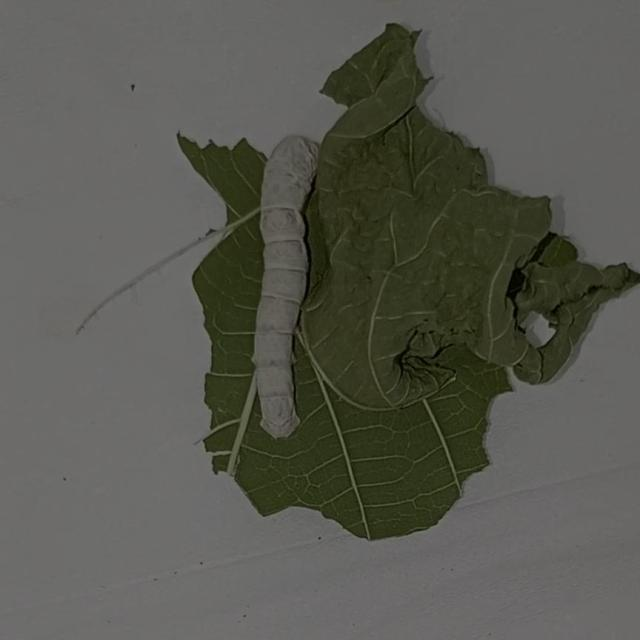Healthy: (230, 113, 347, 452)
